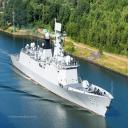Fragata: (10, 16, 118, 121)
